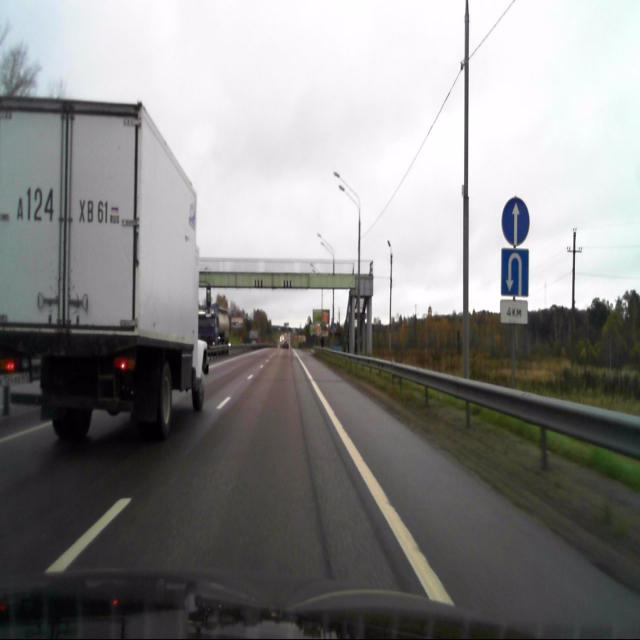road sign: (502, 247, 528, 295), (500, 300, 528, 323)
